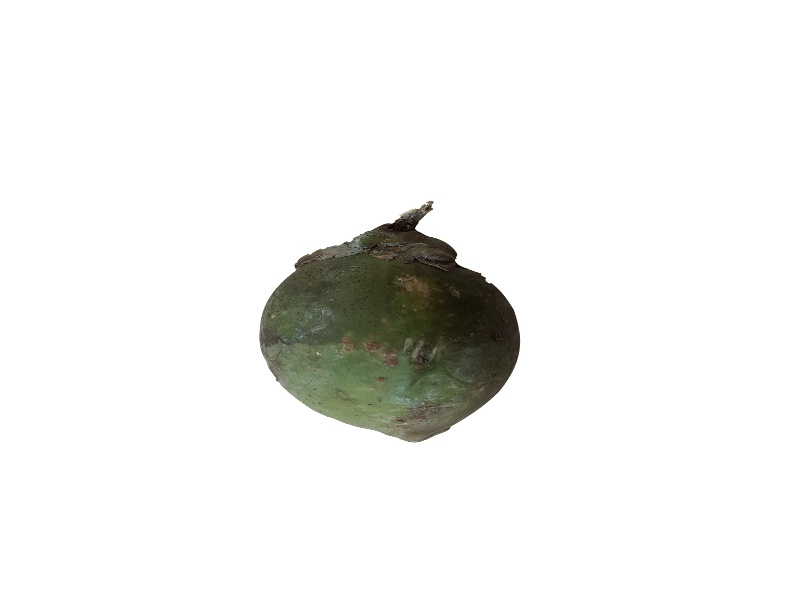arecanut: (253, 197, 530, 447)
